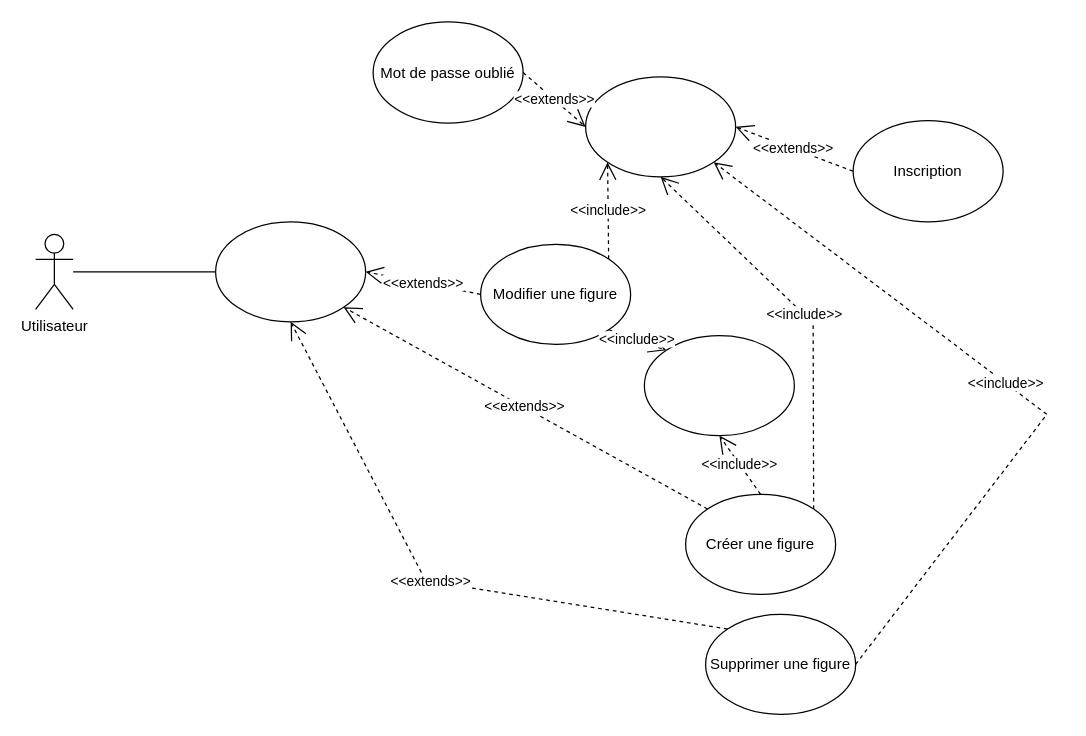
Image size: 1086x736. Some labels were removed from this diagram. The shapes that lost their labels are listed below. From the top down, each one's box as (x1, y1, x2, y2) in pixels, then its label:
(584, 76, 736, 177): Connexion
(214, 221, 366, 322): Afficher l'écran d'accueil
(643, 334, 794, 436): Renseigner les informations
